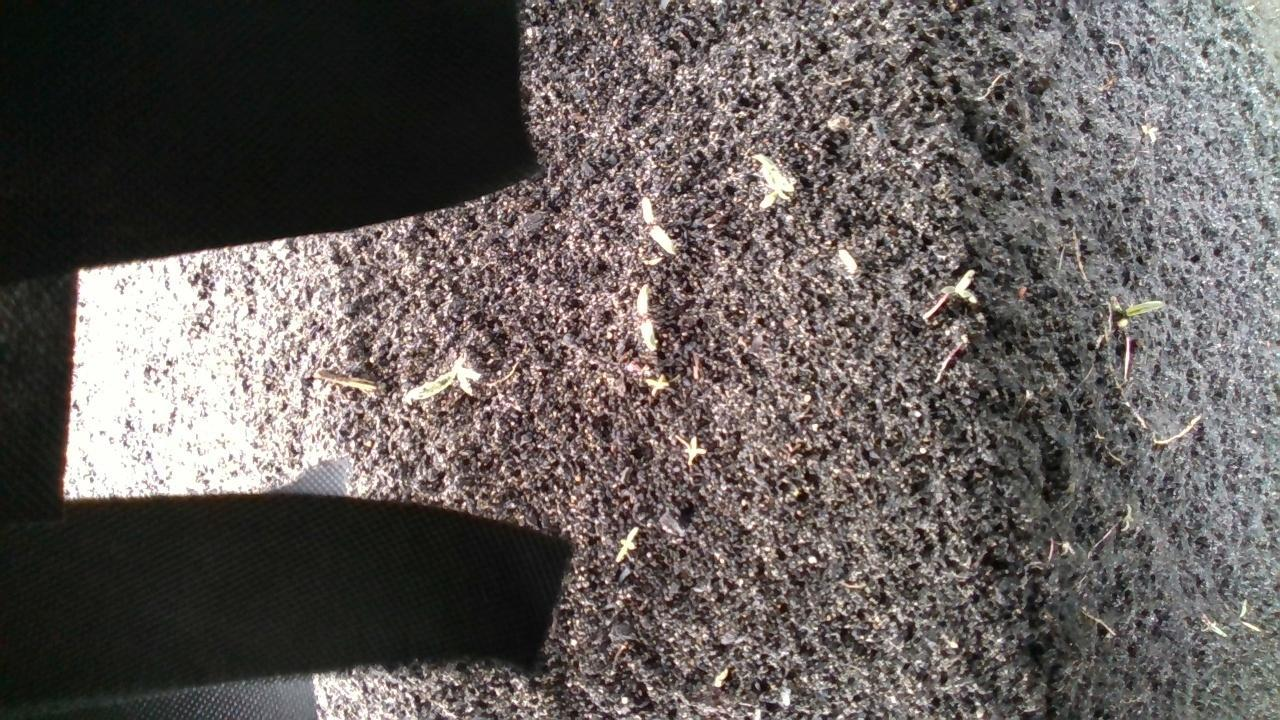weed: (637, 193, 678, 255), (631, 281, 660, 352), (1117, 297, 1167, 328), (947, 266, 978, 304), (644, 369, 686, 396), (612, 525, 639, 562), (677, 434, 710, 462)
